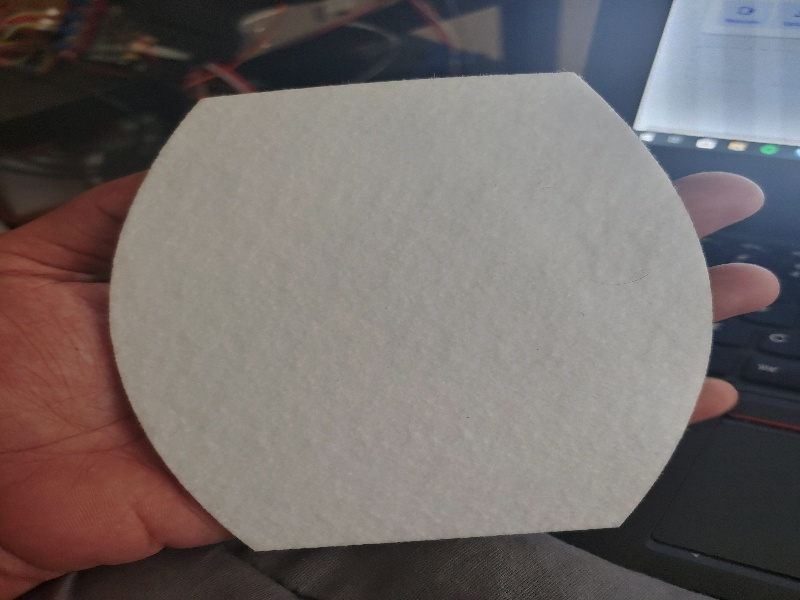Filter: (107, 68, 714, 551)
